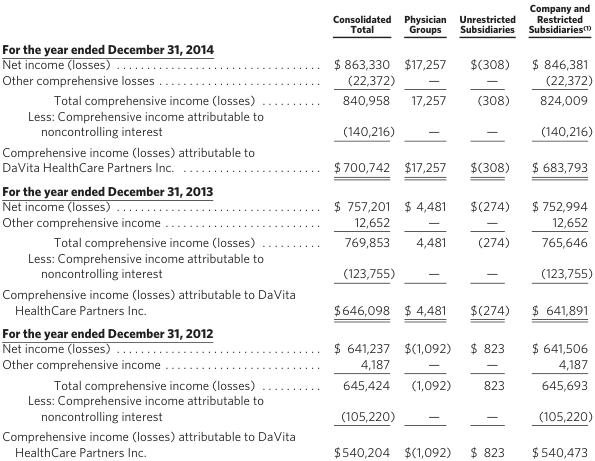table: (1, 1, 592, 458)
table column: (1, 1, 313, 458), (313, 1, 398, 458), (521, 1, 592, 458), (454, 1, 521, 458), (398, 1, 454, 458)
table column header: (1, 1, 592, 37)
table projected row header: (1, 178, 592, 197), (1, 320, 592, 339), (1, 37, 592, 55)
table row: (1, 140, 592, 178), (1, 282, 592, 320), (1, 1, 592, 37), (1, 391, 592, 425), (1, 107, 592, 140), (1, 249, 592, 282), (1, 425, 592, 458), (1, 178, 592, 197), (1, 320, 592, 339), (1, 37, 592, 55), (1, 71, 592, 89), (1, 89, 592, 107), (1, 213, 592, 231), (1, 231, 592, 249), (1, 355, 592, 373), (1, 373, 592, 391), (1, 55, 592, 71), (1, 197, 592, 213), (1, 339, 592, 355)
